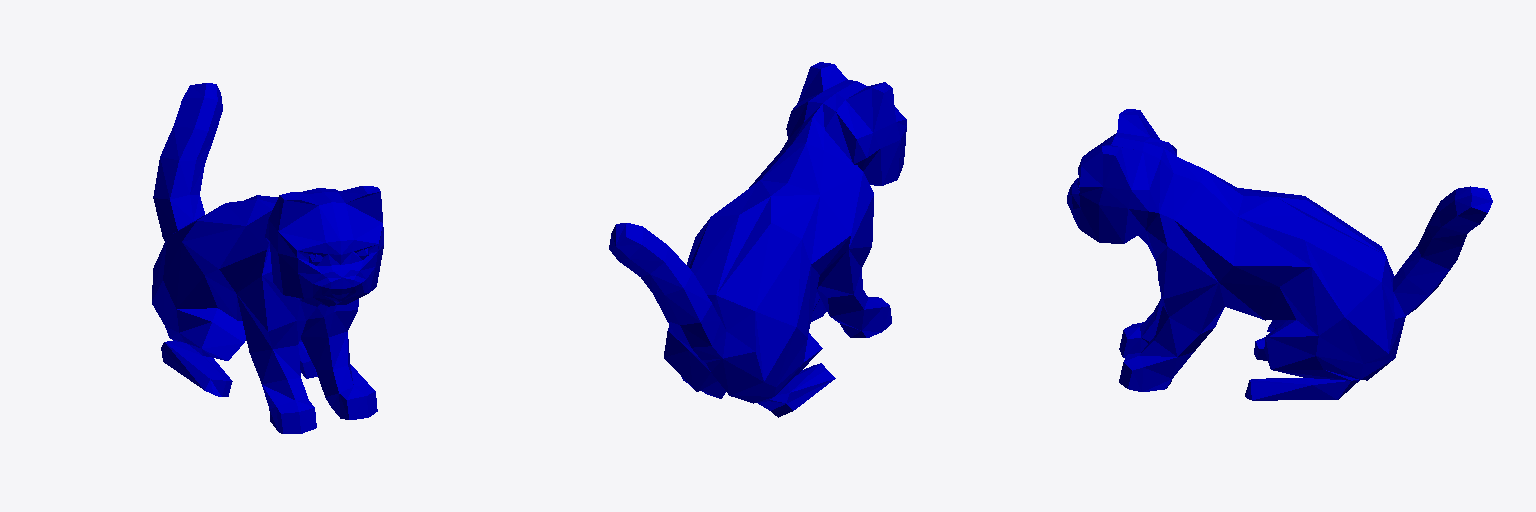
File: alivecat.obj
3 renders of one model, left to right at view 1: azimuth 30°, elevation 25°; view 2: azimuth 150°, elevation 25°; view 3: azimuth 270°, elevation 25°, orthographic.
Visible parts, largest first — view 1: Cube.012_Cube.010; view 2: Cube.012_Cube.010; view 3: Cube.012_Cube.010.
Boxes of the visible parts, x1,y1,x2,y2 form: Cube.012_Cube.010: [152, 83, 383, 433]; Cube.012_Cube.010: [609, 62, 906, 417]; Cube.012_Cube.010: [1067, 109, 1492, 400].
Size of the model in its own units: 0.5583 by 1.09 by 1.7.